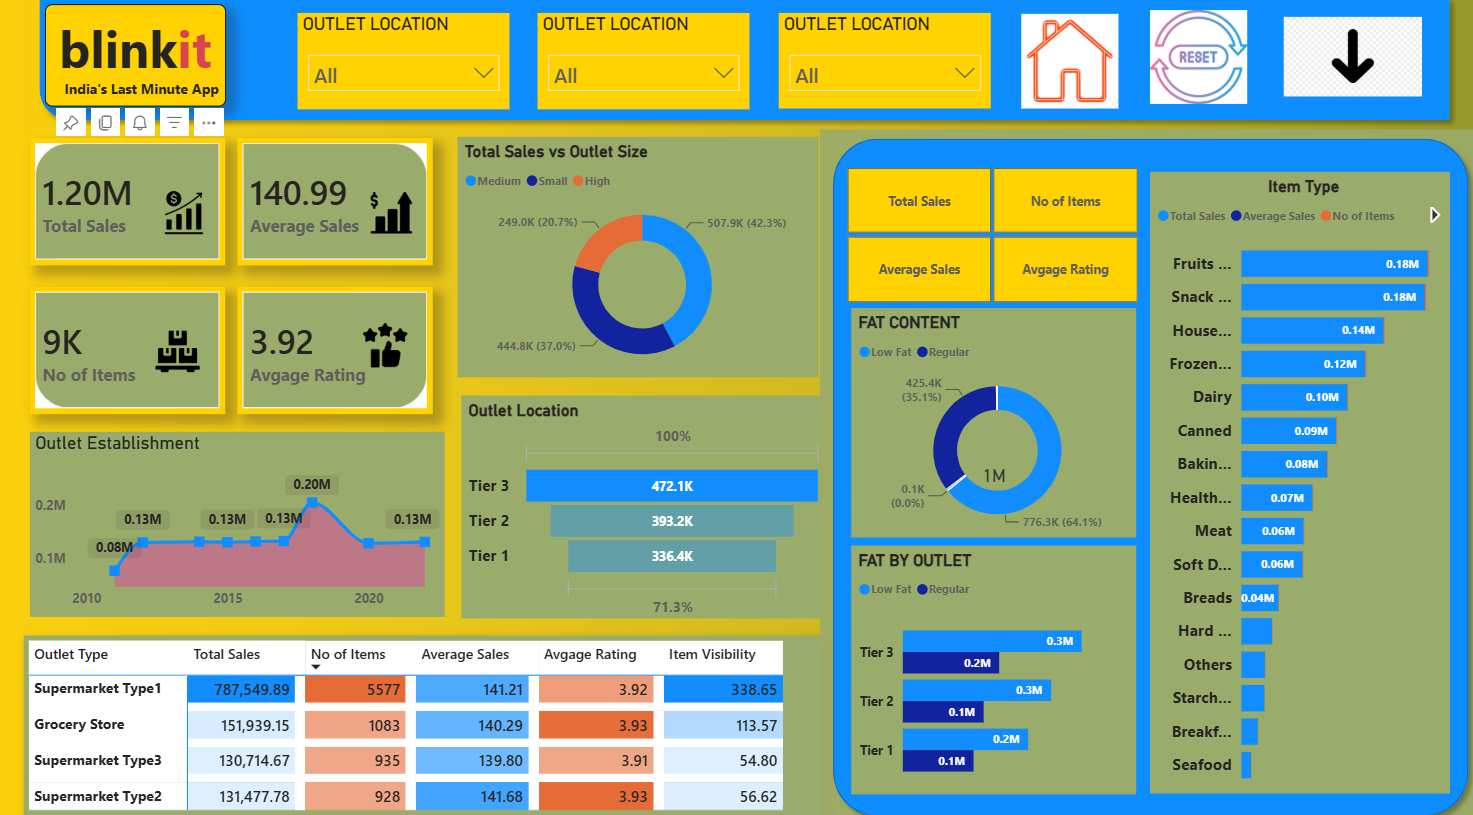

What the dashboard file says about the page in this screenshot:
{"tool":"powerbi","page":{"name":"Page 1","canvas":[1400,800],"ordinal":0},"visuals":[{"type":"shape","box":[19.5,0,1364.3,135.1],"z":0},{"type":"textbox","box":[33,15,172.6,97.6],"z":1000},{"type":"textbox","box":[33,82.5,184.6,30],"z":2000},{"type":"cardVisual","fields":{"Data":["BlinkIT Grocery Data.Total Sales"]},"box":[19.5,143.1,186.1,121.6],"z":3000,"group":"g1"},{"type":"lineChart","title":" Outlet Establishment","fields":{"Category":["BlinkIT Grocery Data.Outlet Establishment Year"],"Y":["BlinkIT Grocery Data.Total Sales"]},"box":[19.5,423.2,396.2,177.1],"z":3000},{"type":"shape","box":[775.9,135.1,624.4,664.9],"z":4000,"group":"g2"},{"type":"pivotTable","fields":{"Rows":["BlinkIT Grocery Data.Outlet Type"],"Values":["BlinkIT Grocery Data.Total Sales","BlinkIT Grocery Data.No of Items","BlinkIT Grocery Data.Average Sales","BlinkIT Grocery Data.Avgage Rating","Sum(BlinkIT Grocery Data.Item Visibility)"]},"box":[13.5,618.4,762.4,181.6],"z":4000},{"type":"barChart","title":"Item Type","fields":{"Category":["BlinkIT Grocery Data.Item Type"],"Y":["BlinkIT Grocery Data.Total Sales","BlinkIT Grocery Data.Average Sales","BlinkIT Grocery Data.No of Items","BlinkIT Grocery Data.Avgage Rating"]},"box":[1088.2,175.9,286.7,593.9],"z":5000,"group":"g2"},{"type":"funnel","title":"Outlet Location","fields":{"Category":["BlinkIT Grocery Data.Outlet Location Type"],"Y":["Sum(BlinkIT Grocery Data.Sales)"]},"box":[430.7,388.7,345.2,213.1],"z":5000},{"type":"donutChart","title":"Total Sales vs Outlet Size","fields":{"Category":["BlinkIT Grocery Data.Outlet Size"],"Y":["BlinkIT Grocery Data.Total Sales"]},"box":[427.7,142.6,345.2,229.6],"z":6000},{"type":"cardVisual","fields":{"Data":["BlinkIT Grocery Data.Average Sales"]},"box":[217.6,143.1,186.1,121.6],"z":6000,"group":"g1"},{"type":"donutChart","title":"FAT CONTENT","fields":{"Category":["BlinkIT Grocery Data.Item Fat Content"],"Y":["BlinkIT Grocery Data.Total Sales","BlinkIT Grocery Data.Average Sales","BlinkIT Grocery Data.No of Items","BlinkIT Grocery Data.Avgage Rating"]},"box":[803,305.4,271.7,219.1],"z":6000,"group":"g2"},{"type":"group","id":"g1","title":"Group 1","box":[19.5,143.1,384.2,264.2],"z":7000},{"type":"cardVisual","fields":{"Data":["BlinkIT Grocery Data.No of Items"]},"box":[19.5,285.7,186.1,121.6],"z":7000,"group":"g1"},{"type":"group","id":"g2","title":"Group 2","box":[772.9,135.1,627.4,664.9],"z":8000},{"type":"slicer","fields":{"Values":["Metrics.Metrics"]},"box":[772.9,164.4,327.2,142.2],"z":8000,"group":"g2"},{"type":"cardVisual","fields":{"Data":["BlinkIT Grocery Data.Avg rating"]},"box":[217.6,285.7,186.1,121.6],"z":8000,"group":"g1"},{"type":"slicer","title":"OUTLET LOCATION","fields":{"Values":["BlinkIT Grocery Data.Outlet Location Type"]},"box":[274.4,23.4,202.7,92],"z":9000},{"type":"clusteredBarChart","title":"FAT BY OUTLET","fields":{"Category":["BlinkIT Grocery Data.Outlet Location Type"],"Series":["BlinkIT Grocery Data.Item Fat Content"],"Y":["BlinkIT Grocery Data.Total Sales"]},"box":[803,532.2,271.7,237.6],"z":9000,"group":"g2"},{"type":"slicer","title":"OUTLET LOCATION","fields":{"Values":["BlinkIT Grocery Data.Outlet Size"]},"box":[503.6,23.4,202.7,92],"z":10000},{"type":"slicer","title":"OUTLET LOCATION","fields":{"Values":["BlinkIT Grocery Data.Item Type"]},"box":[734.3,23.4,202.6,91.6],"z":11000},{"type":"image","box":[965,23.4,93.1,91.6],"z":12000},{"type":"advanceCardE03760C5AB684758B56AA29F9E6C257B","fields":{"mainMeasure":["BlinkIT Grocery Data.Total Sales"]},"box":[917,425.7,48,79.5],"z":12000,"group":"g2"},{"type":"image","box":[1088.2,20.3,93.1,91.6],"z":13000},{"type":"image","box":[136.6,192.6,60,42],"z":13000,"group":"g1"},{"type":"image","box":[1216,7.8,132.1,114.1],"z":14000},{"type":"image","box":[334.7,192.6,60,42],"z":14000,"group":"g1"},{"type":"image","box":[130.6,326.2,60,42],"z":15000,"group":"g1"},{"type":"image","box":[328.7,320.2,60,42],"z":16000,"group":"g1"}]}

Visuals, with their boxes on the page's 1400x800 design canvas (x1, y1, x2, y2). These are canvas units, not pixel positions in the 1473x815 screenshot, which may show the page scaled, cropped or inside an application window:
shape: bbox=(20, 0, 1384, 135)
textbox: bbox=(33, 15, 206, 113)
textbox: bbox=(33, 82, 218, 112)
cardVisual - BlinkIT Grocery Data.Total Sales: bbox=(20, 143, 206, 265)
" Outlet Establishment" lineChart: bbox=(20, 423, 416, 600)
shape: bbox=(776, 135, 1400, 800)
pivotTable - BlinkIT Grocery Data.Outlet Type x BlinkIT Grocery Data.Total Sales: bbox=(14, 618, 776, 800)
"Item Type" barChart: bbox=(1088, 176, 1375, 770)
"Outlet Location" funnel: bbox=(431, 389, 776, 602)
"Total Sales vs Outlet Size" donutChart: bbox=(428, 143, 773, 372)
cardVisual - BlinkIT Grocery Data.Average Sales: bbox=(218, 143, 404, 265)
"FAT CONTENT" donutChart: bbox=(803, 305, 1075, 524)
"Group 1" group: bbox=(20, 143, 404, 407)
cardVisual - BlinkIT Grocery Data.No of Items: bbox=(20, 286, 206, 407)
"Group 2" group: bbox=(773, 135, 1400, 800)
slicer - Metrics.Metrics: bbox=(773, 164, 1100, 307)
cardVisual - BlinkIT Grocery Data.Avg rating: bbox=(218, 286, 404, 407)
"OUTLET LOCATION" slicer: bbox=(274, 23, 477, 115)
"FAT BY OUTLET" clusteredBarChart: bbox=(803, 532, 1075, 770)
"OUTLET LOCATION" slicer: bbox=(504, 23, 706, 115)
"OUTLET LOCATION" slicer: bbox=(734, 23, 937, 115)
image: bbox=(965, 23, 1058, 115)
advanceCardE03760C5AB684758B56AA29F9E6C257B - BlinkIT Grocery Data.Total Sales: bbox=(917, 426, 965, 505)
image: bbox=(1088, 20, 1181, 112)
image: bbox=(137, 193, 197, 235)
image: bbox=(1216, 8, 1348, 122)
image: bbox=(335, 193, 395, 235)
image: bbox=(131, 326, 191, 368)
image: bbox=(329, 320, 389, 362)
